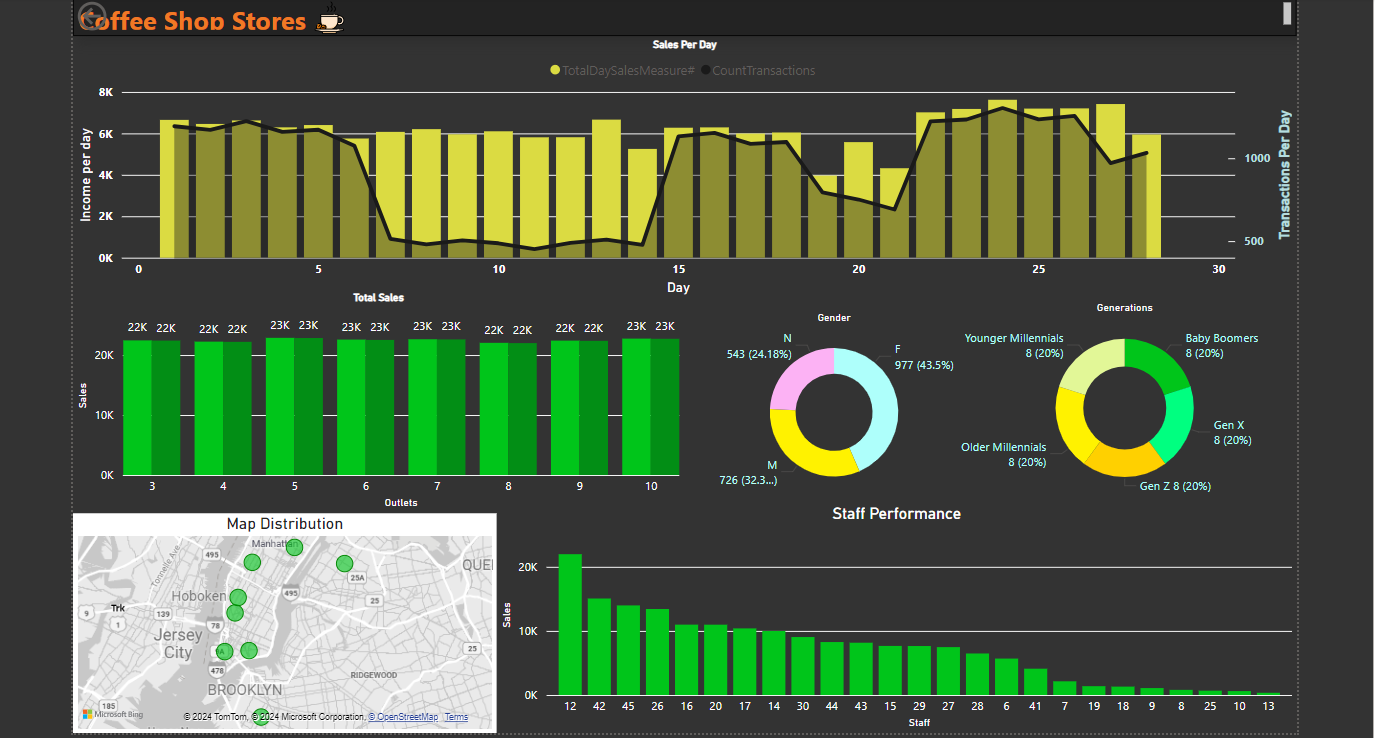

The page's visual inventory and layout, read from the dashboard file:
{"tool":"powerbi","page":{"name":"Outlets","canvas":[1280,770],"ordinal":0},"visuals":[{"type":"textbox","box":[0,0,1280.3,40.5],"z":0},{"type":"image","box":[227.5,0,81.1,43.2],"z":1000},{"type":"actionButton","box":[0,0,100,40],"z":2000},{"type":"lineClusteredColumnComboChart","title":"Sales Per Day","fields":{"Category":["dim_dates.day"],"Y":["fact_sales.TotalDaySalesMeasure#"],"Y2":["fact_sales.CountTransactions"]},"box":[0,43.2,1280.3,273.3],"z":3000},{"type":"clusteredColumnChart","title":"Total Sales","fields":{"Category":["dim_salesoutlet.Outlet_ID"],"Y":["fact_sales.Total Sales by Retail Price","fact_sales.Total Sales"]},"box":[0,307.3,639.5,232.8],"z":4000},{"type":"donutChart","title":"Gender","fields":{"Category":["dim_customer.gender"],"Y":["Count(dim_customer.customer_id)"]},"box":[639.5,328.2,313.9,200.1],"z":5000},{"type":"donutChart","title":"Generations","fields":{"Category":["dim_customer.generation"],"Y":["CountNonNull(dim_salesoutlet.Outlet_ID)"]},"box":[920.7,317.8,359.6,211.9],"z":6000},{"type":"clusteredColumnChart","title":"Staff Performance","fields":{"Category":["dim_staff.staff_id"],"Y":["fact_sales.TotalSalesByStaff"]},"box":[443.3,529.6,837,240.6],"z":7000},{"type":"map","title":"Map Distribution ","fields":{"Y":["dim_salesoutlet.store_latitude"],"X":["dim_salesoutlet.store_longitude"],"Size":["fact_sales.Sales by Outlet"]},"box":[0,540.1,443.3,230.2],"z":8000}]}

Visuals, with their boxes on the page's 1280x770 design canvas (x1, y1, x2, y2). These are canvas units, not pixel positions in the 1375x738 screenshot, which may show the page scaled, cropped or inside an application window:
textbox: (x1=0, y1=0, x2=1280, y2=40)
image: (x1=228, y1=0, x2=309, y2=43)
actionButton: (x1=0, y1=0, x2=100, y2=40)
"Sales Per Day" lineClusteredColumnComboChart: (x1=0, y1=43, x2=1280, y2=316)
"Total Sales" clusteredColumnChart: (x1=0, y1=307, x2=640, y2=540)
"Gender" donutChart: (x1=640, y1=328, x2=953, y2=528)
"Generations" donutChart: (x1=921, y1=318, x2=1280, y2=530)
"Staff Performance" clusteredColumnChart: (x1=443, y1=530, x2=1280, y2=770)
"Map Distribution " map: (x1=0, y1=540, x2=443, y2=770)
